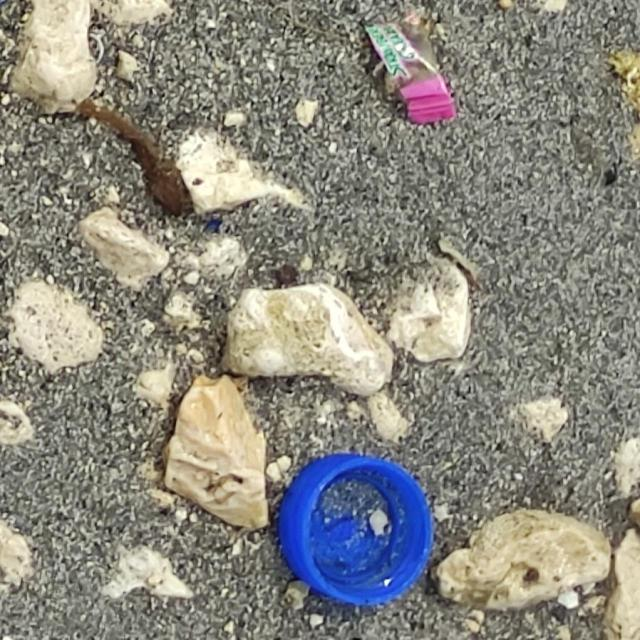plastic_waste: (279, 454, 436, 608), (365, 22, 457, 125)
